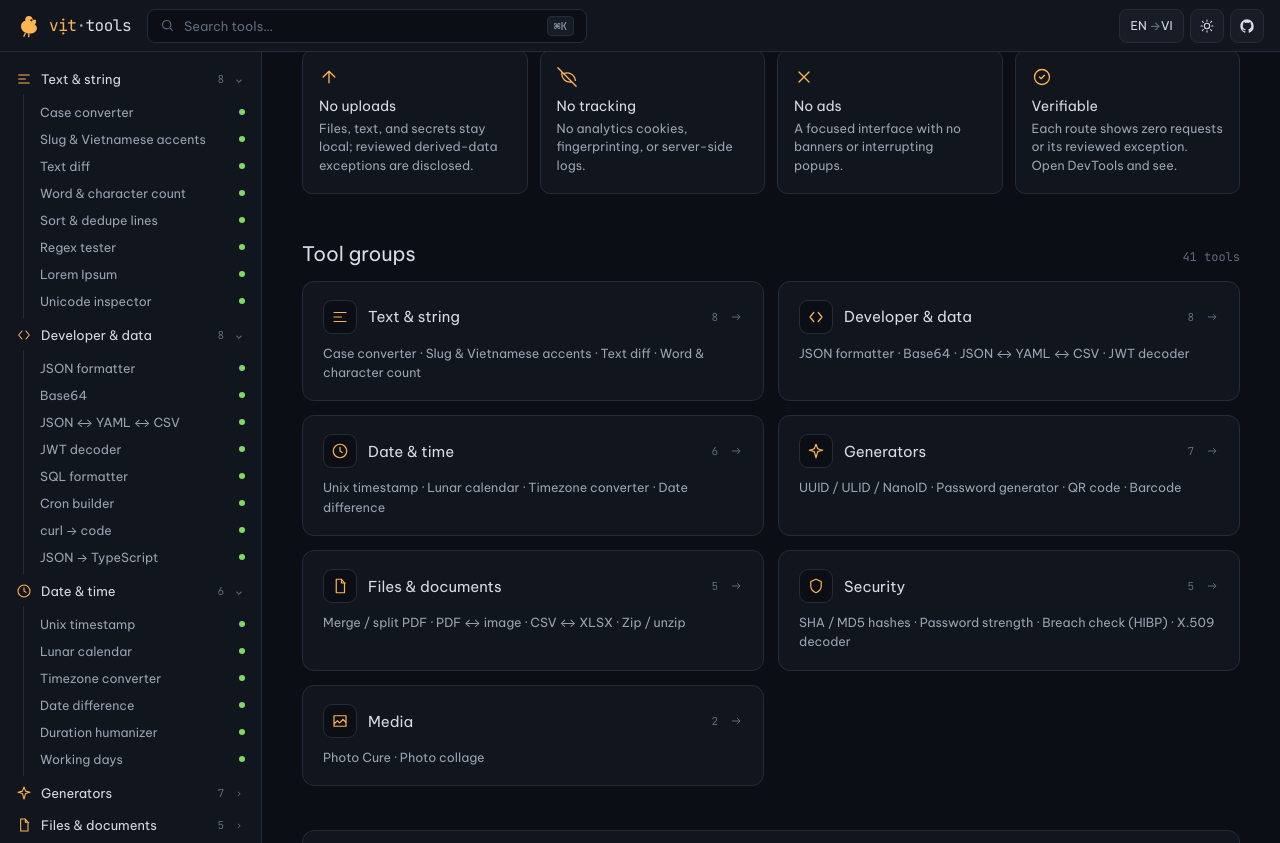
Scenario: tool platform shell › shows all six offline-ready Date & Time tools on its group hub
The width and height of the screenshot is (1280, 843).
(page scrolled)
Click the link "Date & time".
click(340, 451)  # box [302,415,764,536]
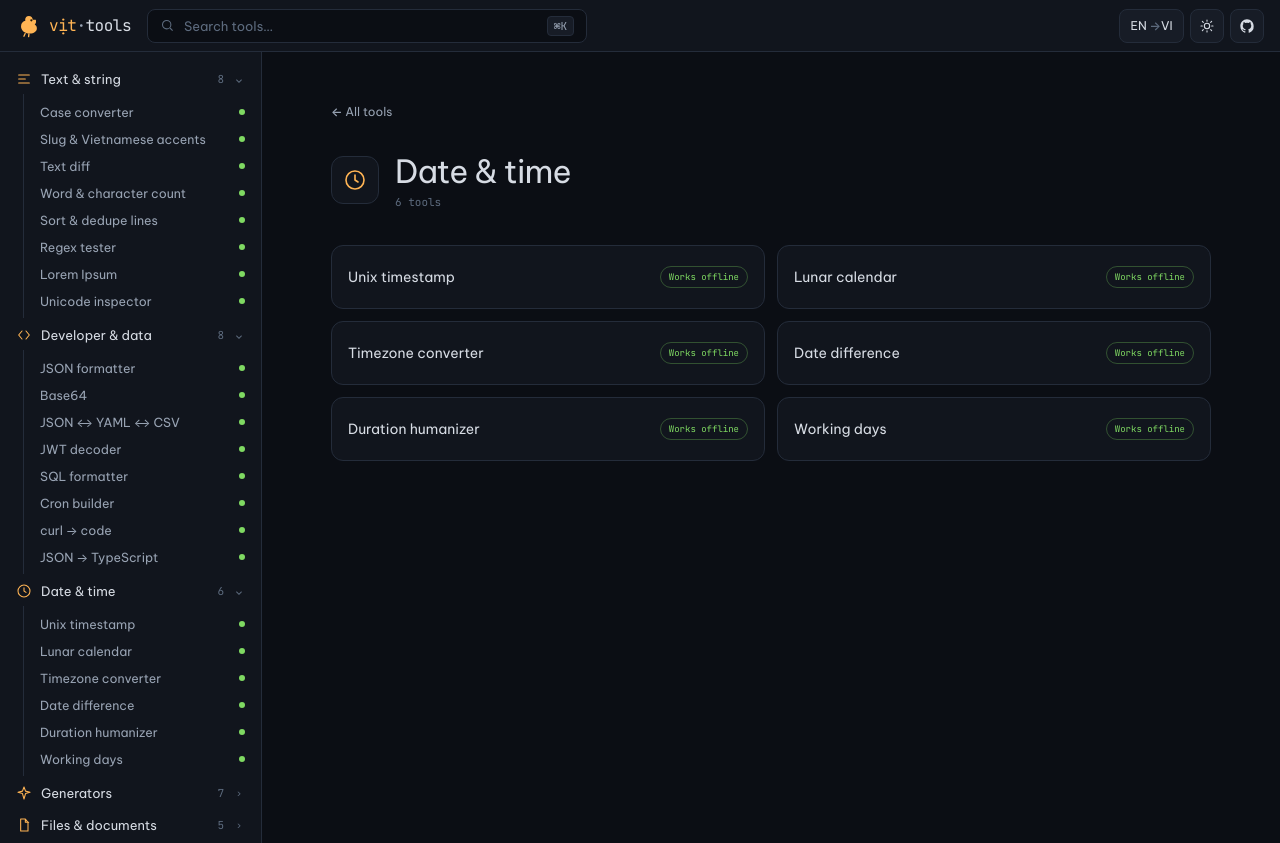
Expected: the heading "Date & time" is shown, [395,151,571,191]
Expected: the text "Works offline" is shown 6 times, [660,266,748,288]; [1106,266,1194,288]; [660,342,748,364]; [1106,342,1194,364]; [660,418,748,440]; [1106,418,1194,440]
